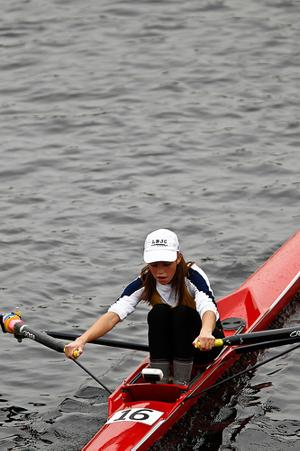person: (64, 225, 228, 368)
